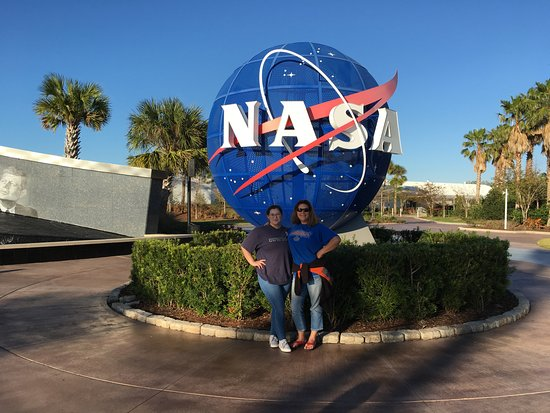NASA: (200, 39, 403, 232)
